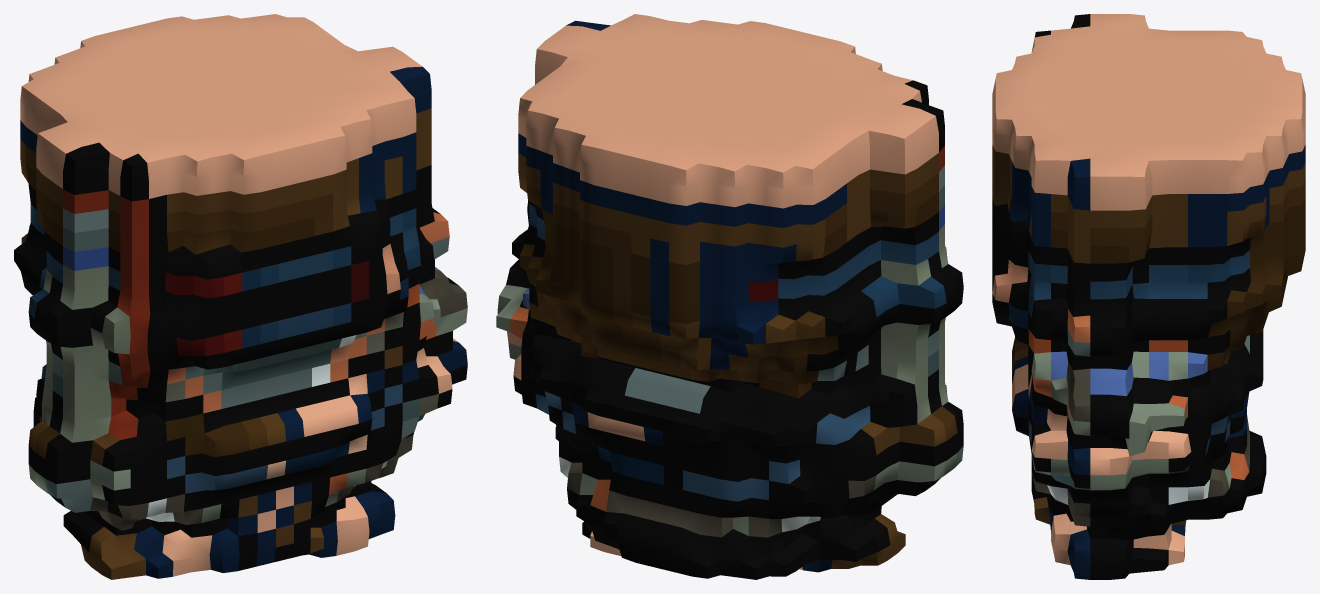
The model's file is Icon_702_01.obj.
The picture shows the model from 3 angles, left to right: view 1: azimuth 30°, elevation 25°; view 2: azimuth 150°, elevation 25°; view 3: azimuth 270°, elevation 25°; orthographic projection. The views are drawn at different scales.
Bounding box in the file's own units: 2.3 × 2.4 × 1.6.
